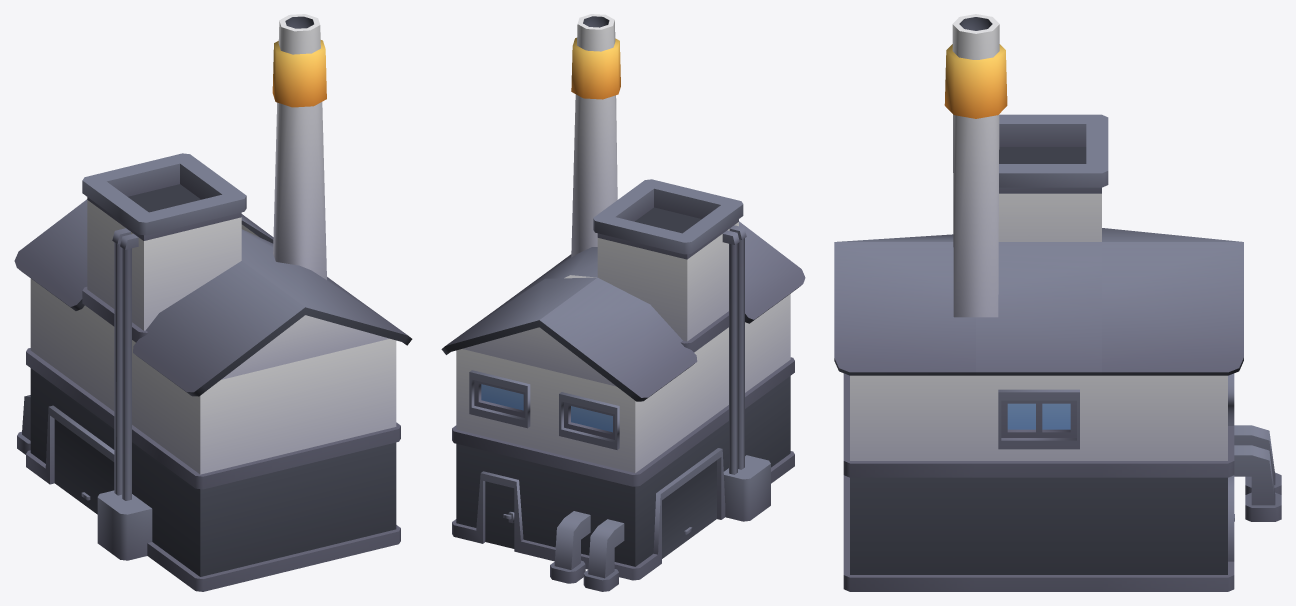
File: building-n.lod.glb
3 views of the same model, side by side, from view 1: azimuth 30°, elevation 25°; view 2: azimuth 150°, elevation 25°; view 3: azimuth 270°, elevation 25° (orthographic). The views are drawn at different scales.
Parts seen in each view (by area): view 1: building-n; view 2: building-n; view 3: building-n.
Part boxes in pixels (x1,y1,x2,y2): building-n: (14, 14, 412, 591); building-n: (441, 14, 805, 591); building-n: (834, 14, 1281, 591).
Bounding box in the file's own units: 0.9766 × 1.9 × 1.42.
Materials: 1 (1 with a texture image).
